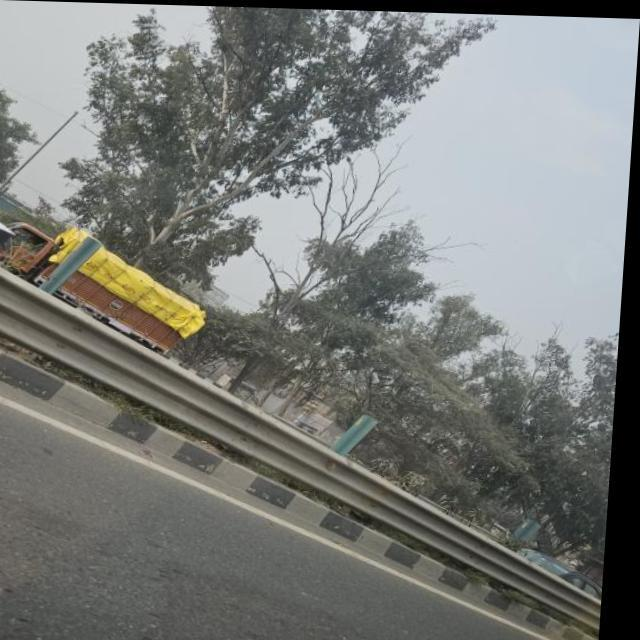covered: (41, 215, 220, 355)
